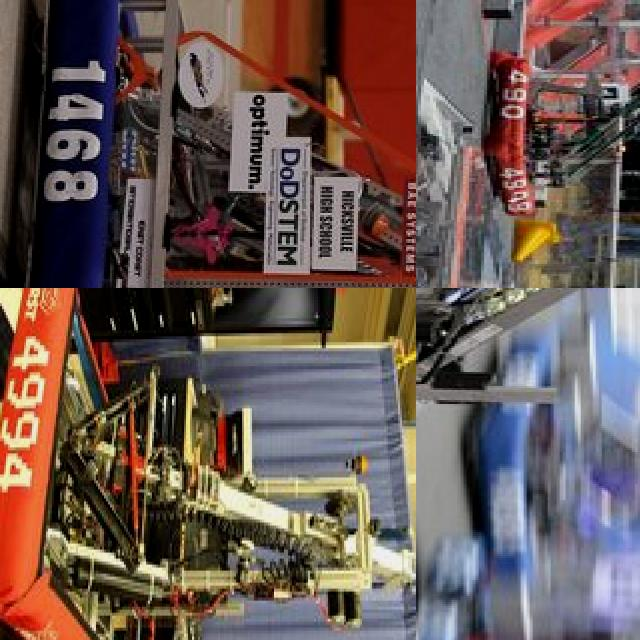FRC-Robots: (0, 288, 416, 640), (25, 0, 416, 288), (416, 288, 640, 516), (463, 0, 640, 238)
